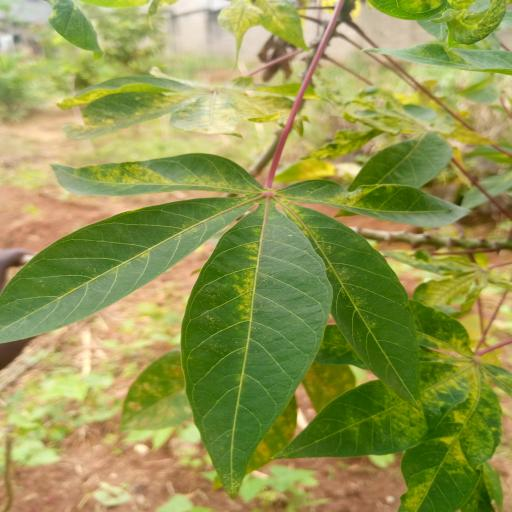Cassava_Mosaic: (9, 147, 423, 498)
